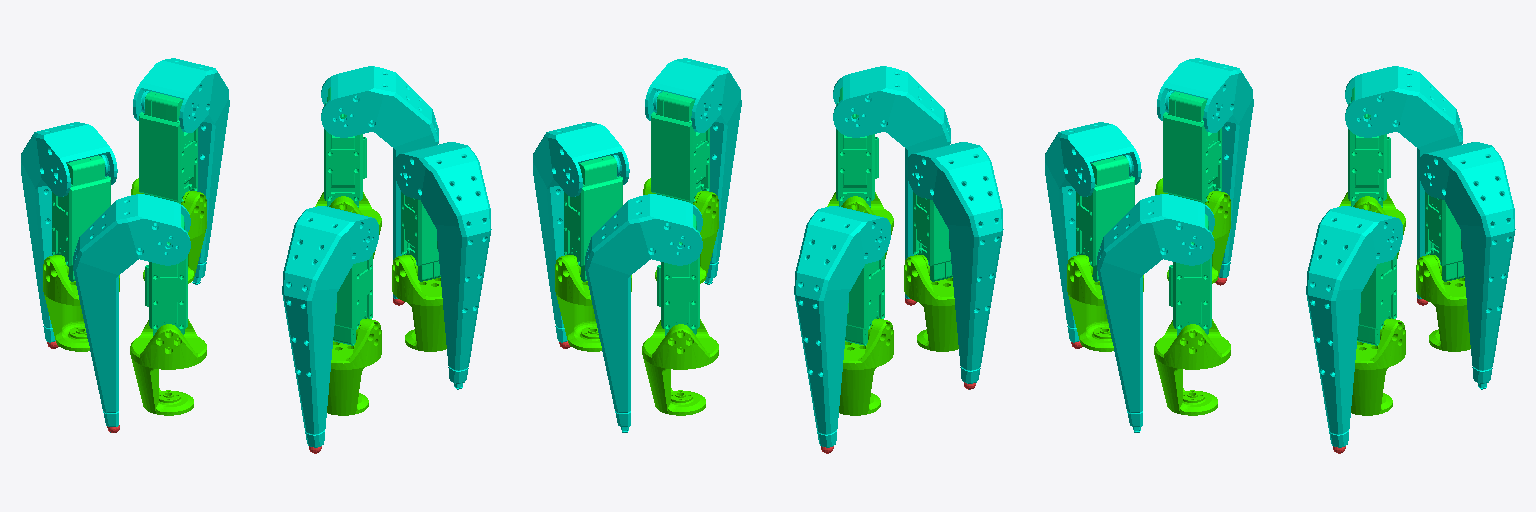
--- What the picture shows (computed from the rendered views, not written in the file) ---
3 views of the same robot in one strip: view 1: azimuth 30°, elevation 25°; view 2: azimuth 150°, elevation 25°; view 3: azimuth 270°, elevation 25° (orthographic).
Robot: hexapod — 25 links, 24 joints (18 revolute, 6 fixed); root link body; default pose: all joints at 0.
Visible links, largest first — view 1: t1, t2, t3, t6, t5, t4, f5, c3, f4, c1, c2, c4 (+6 smaller); view 2: t4, t3, t5, t2, t1, t6, f1, c5, f6, c3, c4, c6 (+6 smaller); view 3: t5, t6, t1, t4, t3, t2, f3, c1, f2, c5, c6, c2 (+6 smaller).
Link boxes in pixels (left/top/right/bottom): t1: left=394, top=142, right=491, bottom=389; t2: left=282, top=206, right=378, bottom=447; t3: left=73, top=194, right=190, bottom=432; t6: left=321, top=66, right=438, bottom=298; t5: left=133, top=58, right=229, bottom=284; t4: left=21, top=122, right=117, bottom=342; f5: left=139, top=91, right=197, bottom=203; c3: left=130, top=319, right=206, bottom=415; f4: left=52, top=155, right=110, bottom=281; c1: left=392, top=255, right=446, bottom=351; c2: left=327, top=318, right=381, bottom=415; c4: left=43, top=255, right=119, bottom=351; t4: left=794, top=206, right=890, bottom=447; t3: left=906, top=142, right=1003, bottom=389; t5: left=585, top=194, right=702, bottom=432; t2: left=833, top=66, right=950, bottom=298; t1: left=645, top=58, right=741, bottom=284; t6: left=533, top=122, right=629, bottom=342; f1: left=651, top=91, right=709, bottom=203; c5: left=642, top=319, right=718, bottom=415; f6: left=564, top=155, right=622, bottom=281; c3: left=904, top=255, right=958, bottom=351; c4: left=839, top=318, right=893, bottom=415; c6: left=555, top=255, right=631, bottom=351; t5: left=1418, top=142, right=1515, bottom=389; t6: left=1306, top=206, right=1402, bottom=447; t1: left=1097, top=194, right=1214, bottom=432; t4: left=1345, top=66, right=1462, bottom=298; t3: left=1157, top=58, right=1253, bottom=277; t2: left=1045, top=122, right=1141, bottom=342; f3: left=1163, top=91, right=1221, bottom=203; c1: left=1154, top=319, right=1230, bottom=415; f2: left=1076, top=155, right=1134, bottom=281; c5: left=1416, top=255, right=1470, bottom=351; c6: left=1351, top=318, right=1405, bottom=415; c2: left=1067, top=255, right=1143, bottom=351.
Bounding box of the posed robot: 0.376 × 0.3678 × 0.1964 m (x, y, z).
22 mesh visuals loaded from 25 distinct referenced files (22 binary STL); not drawn: 3 (reference not matched to a file when rendering).

URDF robot description (hexapod):
<?xml version="1.0"?>
<robot
  name="hexapod">
  <link
    name="body">
    <inertial>
      <origin
        xyz="-0.000964757398601047 -0.000474507891316197 0.0250917541538913"
        rpy="0 0 0" />
      <mass
        value="0.837264376559784" />
      <inertia
        ixx="0.000684705045228122"
        ixy="2.41203148829684E-06"
        ixz="1.37182293143103E-06"
        iyy="0.000373213482608926"
        iyz="2.86965126573547E-08"
        izz="0.000953816417305708" />
    </inertial>
    <visual>
      <origin
        xyz="0 0 0"
        rpy="0 0 0" />
      <geometry>
        <mesh
          filename="../meshes/body.STL" />
      </geometry>
      <material
        name="">
        <color
          rgba="1 0.984 0 1" />
      </material>
    </visual>
    <collision>
      <origin
        xyz="0 0 0"
        rpy="0 0 0" />
      <geometry>
        <mesh
          filename="../meshes/body_scad.stl" scale="0.001 0.001 0.001"/>
      </geometry>
    </collision>
  </link>
  <link
    name="c1">
    <inertial>
      <origin
        xyz="0.00013691 -0.0055867 0.03976"
        rpy="0 0 0" />
      <mass
        value="0.060858" />
      <inertia
        ixx="3.2009E-05"
        ixy="-5.5108E-08"
        ixz="1.3355E-08"
        iyy="3.647E-05"
        iyz="-3.6867E-06"
        izz="2.5652E-05" />
    </inertial>
    <visual>
      <origin
        xyz="0 0 0"
        rpy="0 0 0" />
      <geometry>
        <mesh
          filename="../meshes/c1.STL" />
      </geometry>
      <material
        name="">
        <color
          rgba="0.3 1 0 1" />
      </material>
    </visual>
    <collision>
      <origin
        xyz="0 0 0"
        rpy="0 0 0" />
      <geometry>
        <mesh
          filename="../meshes/c1_scad.stl" scale="0.001 0.001 0.001"/>
      </geometry>
    </collision>
  </link>
  <joint
    name="c1"
    type="revolute">
    <origin
      xyz="0.11804 -0.068148 -0.0036"
      rpy="0 0 0" />
    <parent
      link="body" />
    <child
      link="c1" />
    <axis
      xyz="0 0 1" />
    <limit
      lower="0"
      upper="2.0944"
      effort="2.9419"
      velocity="4.71" />
  </joint>
  <link
    name="f1">
    <inertial>
      <origin
        xyz="-0.039988 7.741E-05 -0.01669"
        rpy="0 0 0" />
      <mass
        value="0.11714" />
      <inertia
        ixx="1.3116E-05"
        ixy="2.371E-08"
        ixz="3.7548E-10"
        iyy="2.465E-05"
        iyz="-2.0838E-09"
        izz="2.7051E-05" />
    </inertial>
    <visual>
      <origin
        xyz="0 0 0"
        rpy="0 0 0" />
      <geometry>
        <mesh
          filename="../meshes/f1.STL" />
      </geometry>
      <material
        name="">
        <color
          rgba="0 1 0.58 1" />
      </material>
    </visual>
    <collision>
      <origin
        xyz="0 0 0"
        rpy="0 0 0" />
      <geometry>
        <mesh
          filename="../meshes/f1_scad.stl" scale="0.001 0.001 0.001"/>
      </geometry>
    </collision>
  </link>
  <joint
    name="f1"
    type="revolute">
    <origin
      xyz="0.0169 0 0.0679"
      rpy="0 1.5708 0" />
    <parent
      link="c1" />
    <child
      link="f1" />
    <axis
      xyz="0 0 1" />
    <limit
      lower="-0.7853"
      upper="1.5708"
      effort="2.9419"
      velocity="4.71" />
  </joint>
  <link
    name="t1">
    <inertial>
      <origin
        xyz="0.033566 0.041626 -0.022609"
        rpy="0 0 0" />
      <mass
        value="0.11714" />
      <inertia
        ixx="5.057E-05"
        ixy="-4.8612E-05"
        ixz="8.9984E-08"
        iyy="0.00026925"
        iyz="2.3327E-08"
        izz="0.0003066" />
    </inertial>
    <visual>
      <origin
        xyz="0 0 0"
        rpy="0 0 0" />
      <geometry>
        <mesh
          filename="../meshes/t1.STL" />
      </geometry>
      <material
        name="">
        <color
          rgba="0 1 0.9 1" />
      </material>
    </visual>
    <collision>
      <origin
        xyz="0 0 0"
        rpy="0 0 0" />
      <geometry>
        <mesh
          filename="../meshes/t1_scad.stl" scale="0.001 0.001 0.001"/>
      </geometry>
    </collision>
  </link>
  <joint
    name="t1"
    type="revolute">
    <origin
      xyz="-0.08 0 -0.0395"
      rpy="3.1416 0 0" />
    <parent
      link="f1" />
    <child
      link="t1" />
    <axis
      xyz="0 0 1" />
    <limit
      lower="0"
      upper="2.0944"
      effort="2.9419"
      velocity="4.71" />
  </joint>
  <link
    name="e1">
    <visual>
      <origin
        xyz="0 0 0"
        rpy="0 0 0" />
      <geometry>
        <mesh
          filename="../meshes/e1_scad.stl" scale="0.001 0.001 0.001"/>
      </geometry>
      <material
        name="">
        <color
          rgba="1 0.3 0.3 1" />
      </material>
    </visual>
    <collision>
      <origin
        xyz="0 0 0"
        rpy="0 0 0" />
      <geometry>
        <mesh
          filename="../meshes/e1_scad.stl" scale="0.001 0.001 0.001"/>
      </geometry>
      <material
        name="">
        <color
          rgba="1 0.3 0.3 1" />
      </material>
    </collision>
  </link>
  <joint
    name="e1"
    type="fixed">
    <origin
      xyz="0 0 0"
      rpy="0 0 0" />
    <parent
      link="t1" />
    <child
      link="e1" />
  </joint>
  <link
    name="c2">
    <inertial>
      <origin
        xyz="-0.0047697 -0.0029119 0.03976"
        rpy="0 0 0" />
      <mass
        value="0.060858" />
      <inertia
        ixx="3.5307E-05"
        ixy="1.9593E-06"
        ixz="-3.1861E-06"
        iyy="3.3172E-05"
        iyz="-1.8549E-06"
        izz="2.5652E-05" />
    </inertial>
    <visual>
      <origin
        xyz="0 0 0"
        rpy="0 0 0" />
      <geometry>
        <mesh
          filename="../meshes/c2.STL" />
      </geometry>
      <material
        name="">
        <color
          rgba="0.3 1 0 1" />
      </material>
    </visual>
    <collision>
      <origin
        xyz="0 0 0"
        rpy="0 0 0" />
      <geometry>
        <mesh
          filename="../meshes/c2_scad.stl" scale="0.001 0.001 0.001"/>
      </geometry>
    </collision>
  </link>
  <joint
    name="c2"
    type="revolute">
    <origin
      xyz="0 -0.1363 -0.0036"
      rpy="0 0 0" />
    <parent
      link="body" />
    <child
      link="c2" />
    <axis
      xyz="0 0 1" />
    <limit
      lower="0"
      upper="2.0944"
      effort="2.9419"
      velocity="4.71" />
  </joint>
  <link
    name="f2">
    <inertial>
      <origin
        xyz="7.741E-05 0.039988 -0.01669"
        rpy="0 0 0" />
      <mass
        value="0.11714" />
      <inertia
        ixx="2.465E-05"
        ixy="-2.371E-08"
        ixz="-2.0842E-09"
        iyy="1.3116E-05"
        iyz="-3.7547E-10"
        izz="2.7051E-05" />
    </inertial>
    <visual>
      <origin
        xyz="0 0 0"
        rpy="0 0 0" />
      <geometry>
        <mesh
          filename="../meshes/f2.STL" />
      </geometry>
      <material
        name="">
        <color
          rgba="0 1 0.58 1" />
      </material>
    </visual>
    <collision>
      <origin
        xyz="0 0 0"
        rpy="0 0 0" />
      <geometry>
        <mesh
          filename="../meshes/f2_scad.stl" scale="0.001 0.001 0.001"/>
      </geometry>
    </collision>
  </link>
  <joint
    name="f2"
    type="revolute">
    <origin
      xyz="0.00845 -0.014636 0.0679"
      rpy="1.5708 0 0.5236" />
    <parent
      link="c2" />
    <child
      link="f2" />
    <axis
      xyz="0 0 1" />
    <limit
      lower="-0.7853"
      upper="1.5708"
      effort="2.9419"
      velocity="4.71" />
  </joint>
  <link
    name="t2">
    <inertial>
      <origin
        xyz="-0.041626 0.033566 -0.022609"
        rpy="0 0 0" />
      <mass
        value="0.11714" />
      <inertia
        ixx="0.00026925"
        ixy="4.8613E-05"
        ixz="-2.326E-08"
        iyy="5.057E-05"
        iyz="8.9817E-08"
        izz="0.0003066" />
    </inertial>
    <visual>
      <origin
        xyz="0 0 0"
        rpy="0 0 0" />
      <geometry>
        <mesh
          filename="../meshes/t2.STL" />
      </geometry>
      <material
        name="">
        <color
          rgba="0 1 0.9 1" />
      </material>
    </visual>
    <collision>
      <origin
        xyz="0 0 0"
        rpy="0 0 0" />
      <geometry>
        <mesh
          filename="../meshes/t2_scad.stl" scale="0.001 0.001 0.001"/>
      </geometry>
    </collision>
  </link>
  <joint
    name="t2"
    type="revolute">
    <origin
      xyz="0 0.08 -0.0395"
      rpy="-3.1416 0 0" />
    <parent
      link="f2" />
    <child
      link="t2" />
    <axis
      xyz="0 0 1" />
    <limit
      lower="0"
      upper="2.0944"
      effort="2.9419"
      velocity="4.71" />
  </joint>
  <link
    name="e2">
    <visual>
      <origin
        xyz="0 0 0"
        rpy="0 0 0" />
      <geometry>
        <mesh
          filename="../meshes/e2_scad.stl" scale="0.001 0.001 0.001"/>
      </geometry>
      <material
        name="">
        <color
          rgba="1 0.3 0.3 1" />
      </material>
    </visual>
    <collision>
      <origin
        xyz="0 0 0"
        rpy="0 0 0" />
      <geometry>
        <mesh
          filename="../meshes/e2_scad.stl" scale="0.001 0.001 0.001"/>
      </geometry>
      <material
        name="">
        <color
          rgba="1 0.5 0.5 1" />
      </material>
    </collision>
  </link>
  <joint
    name="e2"
    type="fixed">
    <origin
      xyz="0 0 0"
      rpy="0 0 0" />
    <parent
      link="t2" />
    <child
      link="e2" />
  </joint>
  <link
    name="c3">
    <inertial>
      <origin
        xyz="-0.0049067 0.0026748 0.03976"
        rpy="0 0 0" />
      <mass
        value="0.060858" />
      <inertia
        ixx="3.5402E-05"
        ixy="-1.9042E-06"
        ixz="-3.1995E-06"
        iyy="3.3076E-05"
        iyz="1.8318E-06"
        izz="2.5652E-05" />
    </inertial>
    <visual>
      <origin
        xyz="0 0 0"
        rpy="0 0 0" />
      <geometry>
        <mesh
          filename="../meshes/c3.STL" />
      </geometry>
      <material
        name="">
        <color
          rgba="0.3 1 0 1" />
      </material>
    </visual>
    <collision>
      <origin
        xyz="0 0 0"
        rpy="0 0 0" />
      <geometry>
        <mesh
          filename="../meshes/c3_scad.stl" scale="0.001 0.001 0.001"/>
      </geometry>
    </collision>
  </link>
  <joint
    name="c3"
    type="revolute">
    <origin
      xyz="-0.11804 -0.068148 -0.0036"
      rpy="0 0 0" />
    <parent
      link="body" />
    <child
      link="c3" />
    <axis
      xyz="0 0 1" />
    <limit
      lower="0"
      upper="2.0944"
      effort="2.9419"
      velocity="4.71" />
  </joint>
  <link
    name="f3">
    <inertial>
      <origin
        xyz="7.7409E-05 0.039988 -0.01669"
        rpy="0 0 0" />
      <mass
        value="0.11714" />
      <inertia
        ixx="2.465E-05"
        ixy="-2.371E-08"
        ixz="-2.084E-09"
        iyy="1.3116E-05"
        iyz="-3.7547E-10"
        izz="2.7051E-05" />
    </inertial>
    <visual>
      <origin
        xyz="0 0 0"
        rpy="0 0 0" />
      <geometry>
        <mesh
          filename="../meshes/f3.STL" />
      </geometry>
      <material
        name="">
        <color
          rgba="0 1 0.58 1" />
      </material>
    </visual>
    <collision>
      <origin
        xyz="0 0 0"
        rpy="0 0 0" />
      <geometry>
        <mesh
          filename="../meshes/f3_scad.stl" scale="0.001 0.001 0.001"/>
      </geometry>
    </collision>
  </link>
  <joint
    name="f3"
    type="revolute">
    <origin
      xyz="-0.00845 -0.014636 0.0679"
      rpy="1.5708 0 -0.5236" />
    <parent
      link="c3" />
    <child
      link="f3" />
    <axis
      xyz="0 0 1" />
    <limit
      lower="-0.7853"
      upper="1.5708"
      effort="2.9419"
      velocity="4.71" />
  </joint>
  <link
    name="t3">
    <inertial>
      <origin
        xyz="-0.041626 0.033566 -0.022609"
        rpy="0 0 0" />
      <mass
        value="0.11714" />
      <inertia
        ixx="0.00026925"
        ixy="4.8613E-05"
        ixz="-2.3256E-08"
        iyy="5.057E-05"
        iyz="8.9815E-08"
        izz="0.0003066" />
    </inertial>
    <visual>
      <origin
        xyz="0 0 0"
        rpy="0 0 0" />
      <geometry>
        <mesh
          filename="../meshes/t3.STL" />
      </geometry>
      <material
        name="">
        <color
          rgba="0 1 0.9 1" />
      </material>
    </visual>
    <collision>
      <origin
        xyz="0 0 0"
        rpy="0 0 0" />
      <geometry>
        <mesh
          filename="../meshes/t3_scad.stl" scale="0.001 0.001 0.001"/>
      </geometry>
    </collision>
  </link>
  <joint
    name="t3"
    type="revolute">
    <origin
      xyz="0 0.08 -0.0395"
      rpy="-3.1416 0 0" />
    <parent
      link="f3" />
    <child
      link="t3" />
    <axis
      xyz="0 0 1" />
    <limit
      lower="0"
      upper="2.0944"
      effort="2.9419"
      velocity="4.71" />
  </joint>
  <link
    name="e3">
    <visual>
      <origin
        xyz="0 0 0"
        rpy="0 0 0" />
      <geometry>
        <mesh
          filename="../meshes/e3_scad.stl" scale="0.001 0.001 0.001"/>
      </geometry>
      <material
        name="">
        <color
          rgba="1 0.3 0.3 1" />
      </material>
    </visual>
    <collision>
      <origin
        xyz="0 0 0"
        rpy="0 0 0" />
      <geometry>
        <mesh
          filename="../meshes/e3_scad.stl" scale="0.001 0.001 0.001"/>
      </geometry>
      <material
        name="">
        <color
          rgba="1 0.5 0.5 1" />
      </material>
    </collision>
  </link>
  <joint
    name="e3"
    type="fixed">
    <origin
      xyz="0 0 0"
      rpy="0 0 0" />
    <parent
      link="t3" />
    <child
      link="e3" />
  </joint>
  <link
    name="c4">
    <inertial>
      <origin
        xyz="-0.00013691 0.0055867 0.03976"
        rpy="0 0 0" />
      <mass
        value="0.060858" />
      <inertia
        ixx="3.2009E-05"
        ixy="-5.5108E-08"
        ixz="-1.3355E-08"
        iyy="3.647E-05"
        iyz="3.6867E-06"
        izz="2.5652E-05" />
    </inertial>
    <visual>
      <origin
        xyz="0 0 0"
        rpy="0 0 0" />
      <geometry>
        <mesh
          filename="../meshes/c4.STL" />
      </geometry>
      <material
        name="">
        <color
          rgba="0.3 1 0 1" />
      </material>
    </visual>
    <collision>
      <origin
        xyz="0 0 0"
        rpy="0 0 0" />
      <geometry>
        <mesh
          filename="../meshes/c4_scad.stl" scale="0.001 0.001 0.001"/>
      </geometry>
    </collision>
  </link>
  <joint
    name="c4"
    type="revolute">
    <origin
      xyz="-0.11804 0.068148 -0.0036"
      rpy="0 0 0" />
    <parent
      link="body" />
    <child
      link="c4" />
    <axis
      xyz="0 0 1" />
    <limit
      lower="0"
      upper="2.0944"
      effort="2.9419"
      velocity="4.71" />
  </joint>
  <link
    name="f4">
    <inertial>
      <origin
        xyz="0.039988 -7.741E-05 -0.01669"
        rpy="0 0 0" />
      <mass
        value="0.11714" />
      <inertia
        ixx="1.3116E-05"
        ixy="2.371E-08"
        ixz="-3.7548E-10"
        iyy="2.465E-05"
        iyz="2.0838E-09"
        izz="2.7051E-05" />
    </inertial>
    <visual>
      <origin
        xyz="0 0 0"
        rpy="0 0 0" />
      <geometry>
        <mesh
          filename="../meshes/f4.STL" />
      </geometry>
      <material
        name="">
        <color
          rgba="0 1 0.58 1" />
      </material>
    </visual>
    <collision>
      <origin
        xyz="0 0 0"
        rpy="0 0 0" />
      <geometry>
        <mesh
          filename="../meshes/f4_scad.stl" scale="0.001 0.001 0.001"/>
      </geometry>
    </collision>
  </link>
  <joint
    name="f4"
    type="revolute">
    <origin
      xyz="-0.0169 0 0.0679"
      rpy="0 -1.5708 0" />
    <parent
      link="c4" />
    <child
      link="f4" />
    <axis
      xyz="0 0 1" />
    <limit
      lower="-0.7853"
      upper="1.5708"
      effort="2.9419"
      velocity="4.71" />
  </joint>
  <link
    name="t4">
    <inertial>
      <origin
        xyz="0.033566 0.041626 -0.022609"
        rpy="0 0 0" />
      <mass
        value="0.11714" />
      <inertia
        ixx="5.057E-05"
        ixy="-4.8612E-05"
        ixz="8.9984E-08"
        iyy="0.00026925"
        iyz="2.3327E-08"
        izz="0.0003066" />
    </inertial>
    <visual>
      <origin
        xyz="0 0 0"
        rpy="0 0 0" />
      <geometry>
        <mesh
          filename="../meshes/t4.STL" />
      </geometry>
      <material
        name="">
        <color
          rgba="0 1 0.9 1" />
      </material>
    </visual>
    <collision>
      <origin
        xyz="0 0 0"
        rpy="0 0 0" />
      <geometry>
        <mesh
          filename="../meshes/t4_scad.stl" scale="0.001 0.001 0.001"/>
      </geometry>
    </collision>
  </link>
  <joint
    name="t4"
    type="revolute">
    <origin
      xyz="0.08 0 -0.0395"
      rpy="3.1416 0 -3.1416" />
    <parent
      link="f4" />
    <child
      link="t4" />
    <axis
      xyz="0 0 1" />
    <limit
      lower="0"
      upper="2.0944"
      effort="2.9419"
      velocity="4.71" />
  </joint>
  <link
    name="e4">
    <visual>
      <origin
        xyz="0 0 0"
        rpy="0 0 0" />
      <geometry>
        <mesh
          filename="../meshes/e4_scad.stl" scale="0.001 0.001 0.001"/>
      </geometry>
      <material
        name="">
        <color
          rgba="1 0.3 0.3 1" />
      </material>
    </visual>
    <collision>
      <origin
        xyz="0 0 0"
        rpy="0 0 0" />
      <geometry>
        <mesh
          filename="../meshes/e4_scad.stl" scale="0.001 0.001 0.001"/>
      </geometry>
      <material
        name="">
        <color
          rgba="1 0.5 0.5 1" />
      </material>
    </collision>
  </link>
  <joint
    name="e4"
    type="fixed">
    <origin
      xyz="0 0 0"
      rpy="0 0 0" />
    <parent
      link="t4" />
    <child
      link="e4" />
  </joint>
  <link
    name="c5">
    <inertial>
      <origin
        xyz="0.0047697 0.0029119 0.03976"
        rpy="0 0 0" />
      <mass
        value="0.060858" />
      <inertia
        ixx="3.5307E-05"
        ixy="1.9593E-06"
        ixz="3.1861E-06"
        iyy="3.3172E-05"
        iyz="1.8549E-06"
        izz="2.5652E-05" />
    </inertial>
    <visual>
      <origin
        xyz="0 0 0"
        rpy="0 0 0" />
      <geometry>
        <mesh
          filename="../meshes/c5.STL" />
      </geometry>
      <material
        name="">
        <color
          rgba="0.3 1 0 1" />
      </material>
    </visual>
    <collision>
      <origin
        xyz="0 0 0"
        rpy="0 0 0" />
      <geometry>
        <mesh
          filename="../meshes/c5_scad.stl" scale="0.001 0.001 0.001"/>
      </geometry>
    </collision>
  </link>
  <joint
    name="c5"
    type="revolute">
    <origin
      xyz="0 0.1363 -0.0036"
      rpy="0 0 0" />
    <parent
      link="body" />
    <child
      link="c5" />
    <axis
      xyz="0 0 1" />
    <limit
      lower="0"
      upper="2.0944"
      effort="2.9419"
      velocity="4.71" />
  </joint>
  <link
    name="f5">
    <inertial>
      <origin
        xyz="-7.741E-05 -0.039988 -0.01669"
        rpy="0 0 0" />
      <mass
        value="0.11714" />
      <inertia
        ixx="2.465E-05"
        ixy="-2.371E-08"
        ixz="2.0842E-09"
        iyy="1.3116E-05"
        iyz="3.7547E-10"
        izz="2.7051E-05" />
    </inertial>
    <visual>
      <origin
        xyz="0 0 0"
        rpy="0 0 0" />
      <geometry>
        <mesh
          filename="../meshes/f5.STL" />
      </geometry>
      <material
        name="">
        <color
          rgba="0 1 0.58 1" />
      </material>
    </visual>
    <collision>
      <origin
        xyz="0 0 0"
        rpy="0 0 0" />
      <geometry>
        <mesh
          filename="../meshes/f5_scad.stl" scale="0.001 0.001 0.001"/>
      </geometry>
    </collision>
  </link>
  <joint
    name="f5"
    type="revolute">
    <origin
      xyz="-0.00845 0.014636 0.0679"
      rpy="-1.5708 0 0.5236" />
    <parent
      link="c5" />
    <child
      link="f5" />
    <axis
      xyz="0 0 1" />
    <limit
      lower="-0.7853"
      upper="1.5708"
      effort="2.9419"
      velocity="4.71" />
  </joint>
  <link
    name="t5">
    <inertial>
      <origin
        xyz="0.041626 -0.033566 -0.022609"
        rpy="0 0 0" />
      <mass
        value="0.11714" />
      <inertia
        ixx="0.00026925"
        ixy="4.8613E-05"
        ixz="2.326E-08"
        iyy="5.057E-05"
        iyz="-8.9817E-08"
        izz="0.0003066" />
    </inertial>
    <visual>
      <origin
        xyz="0 0 0"
        rpy="0 0 0" />
      <geometry>
        <mesh
          filename="../meshes/t5.STL" />
      </geometry>
      <material
        name="">
        <color
          rgba="0 1 0.9 1" />
      </material>
    </visual>
    <collision>
      <origin
        xyz="0 0 0"
        rpy="0 0 0" />
      <geometry>
        <mesh
          filename="../meshes/t5_scad.stl" scale="0.001 0.001 0.001"/>
      </geometry>
    </collision>
  </link>
  <joint
    name="t5"
    type="revolute">
    <origin
      xyz="0 -0.08 -0.0395"
      rpy="3.1416 0 0" />
    <parent
      link="f5" />
    <child
      link="t5" />
    <axis
      xyz="0 0 1" />
    <limit
      lower="0"
      upper="2.0944"
      effort="2.9419"
      velocity="4.71" />
  </joint>
  <link
    name="e5">
    <visual>
      <origin
        xyz="0 0 0"
        rpy="0 0 0" />
      <geometry>
        <mesh
          filename="../meshes/e5_scad.stl" scale="0.001 0.001 0.001"/>
      </geometry>
      <material
        name="">
        <color
          rgba="1 0.3 0.3 1" />
      </material>
    </visual>
    <collision>
      <origin
        xyz="0 0 0"
        rpy="0 0 0" />
      <geometry>
        <mesh
          filename="../meshes/e5_scad.stl" scale="0.001 0.001 0.001"/>
      </geometry>
      <material
        name="">
        <color
          rgba="1 0.5 0.5 1" />
      </material>
    </collision>
  </link>
  <joint
    name="e5"
    type="fixed">
    <origin
      xyz="0 0 0"
      rpy="0 0 0" />
    <parent
      link="t5" />
    <child
      link="e5" />
  </joint>
  <link
    name="c6">
    <inertial>
      <origin
        xyz="-0.00096476 -0.00047451 0.025092"
        rpy="0 0 0" />
      <mass
        value="0.060858" />
      <inertia
        ixx="3.5402E-05"
        ixy="-1.9042E-06"
        ixz="3.1995E-06"
        iyy="3.3076E-05"
        iyz="-1.8318E-06"
        izz="2.5652E-05" />
    </inertial>
    <visual>
      <origin
        xyz="0 0 0"
        rpy="0 0 0" />
      <geometry>
        <mesh
          filename="../meshes/c6.STL" />
      </geometry>
      <material
        name="">
        <color
          rgba="0.3 1 0 1" />
      </material>
    </visual>
    <collision>
      <origin
        xyz="0 0 0"
        rpy="0 0 0" />
      <geometry>
        <mesh
          filename="../meshes/c6_scad.stl" scale="0.001 0.001 0.001"/>
      </geometry>
    </collision>
  </link>
  <joint
    name="c6"
    type="revolute">
    <origin
      xyz="0.11804 0.068148 -0.0036"
      rpy="0 0 0" />
    <parent
      link="body" />
    <child
      link="c6" />
    <axis
      xyz="0 0 1" />
    <limit
      lower="0"
      upper="2.0944"
      effort="2.9419"
      velocity="4.71" />
  </joint>
  <link
    name="f6">
    <inertial>
      <origin
        xyz="-7.7409E-05 -0.039988 -0.01669"
        rpy="0 0 0" />
      <mass
        value="0.11714" />
      <inertia
        ixx="2.465E-05"
        ixy="-2.371E-08"
        ixz="2.084E-09"
        iyy="1.3116E-05"
        iyz="3.7547E-10"
        izz="2.7051E-05" />
    </inertial>
    <visual>
      <origin
        xyz="0 0 0"
        rpy="0 0 0" />
      <geometry>
        <mesh
          filename="../meshes/f6.STL" />
      </geometry>
      <material
        name="">
        <color
          rgba="0 1 0.58 1" />
      </material>
    </visual>
    <collision>
      <origin
        xyz="0 0 0"
        rpy="0 0 0" />
      <geometry>
        <mesh
          filename="../meshes/f6_scad.stl" scale="0.001 0.001 0.001"/>
      </geometry>
    </collision>
  </link>
  <joint
    name="f6"
    type="revolute">
    <origin
      xyz="0.00845 0.014636 0.0679"
      rpy="-1.5708 0 -0.5236" />
    <parent
      link="c6" />
    <child
      link="f6" />
    <axis
      xyz="0 0 1" />
    <limit
      lower="-0.7853"
      upper="1.5708"
      effort="2.9419"
      velocity="4.71" />
  </joint>
  <link
    name="t6">
    <inertial>
      <origin
        xyz="0.041626 -0.033566 -0.022609"
        rpy="0 0 0" />
      <mass
        value="0.11714" />
      <inertia
        ixx="0.00026925"
        ixy="4.8613E-05"
        ixz="2.3256E-08"
        iyy="5.057E-05"
        iyz="-8.9815E-08"
        izz="0.0003066" />
    </inertial>
    <visual>
      <origin
        xyz="0 0 0"
        rpy="0 0 0" />
      <geometry>
        <mesh
          filename="../meshes/t6.STL" />
      </geometry>
      <material
        name="">
        <color
          rgba="0 1 0.9 1" />
      </material>
    </visual>
    <collision>
      <origin
        xyz="0 0 0"
        rpy="0 0 0" />
      <geometry>
        <mesh
          filename="../meshes/t6_scad.stl" scale="0.001 0.001 0.001"/>
      </geometry>
    </collision>
  </link>
  <joint
    name="t6"
    type="revolute">
    <origin
      xyz="0 -0.08 -0.0395"
      rpy="3.1416 0 0" />
    <parent
      link="f6" />
    <child
      link="t6" />
    <axis
      xyz="0 0 1" />
    <limit
      lower="0"
      upper="2.0944"
      effort="2.9419"
      velocity="4.71" />
  </joint>
  <link
    name="e6">
    <visual>
      <origin
        xyz="0 0 0"
        rpy="0 0 0" />
      <geometry>
        <mesh
          filename="../meshes/e6_scad.stl" scale="0.001 0.001 0.001"/>
      </geometry>
      <material
        name="">
        <color
          rgba="1 0.3 0.3 1" />
      </material>
    </visual>
    <collision>
      <origin
        xyz="0 0 0"
        rpy="0 0 0" />
      <geometry>
        <mesh
          filename="../meshes/e6_scad.stl" scale="0.001 0.001 0.001"/>
      </geometry>
      <material
        name="">
        <color
          rgba="1 0.5 0.5 1" />
      </material>
    </collision>
  </link>
  <joint
    name="e6"
    type="fixed">
    <origin
      xyz="0 0 0"
      rpy="0 0 0" />
    <parent
      link="t6" />
    <child
      link="e6" />
  </joint>
</robot>
